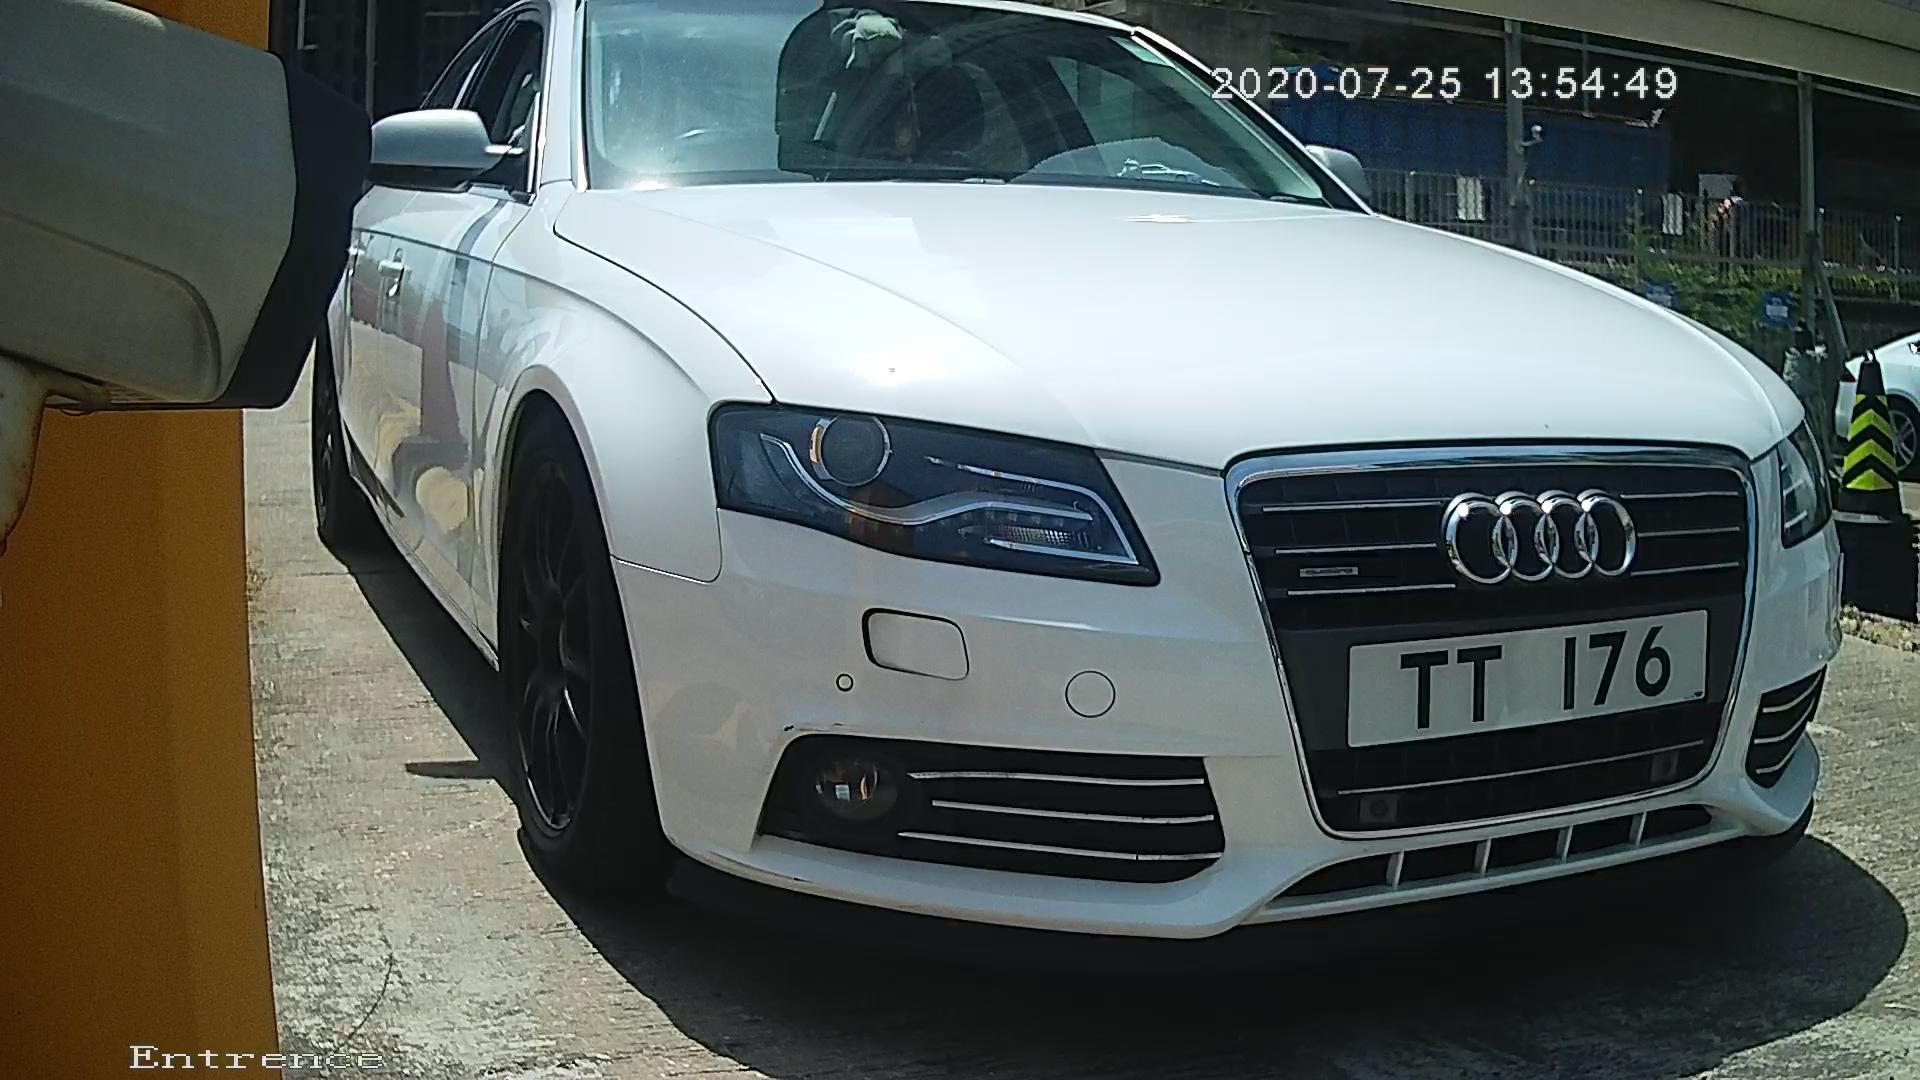License Plate: (1329, 589, 1732, 762)
